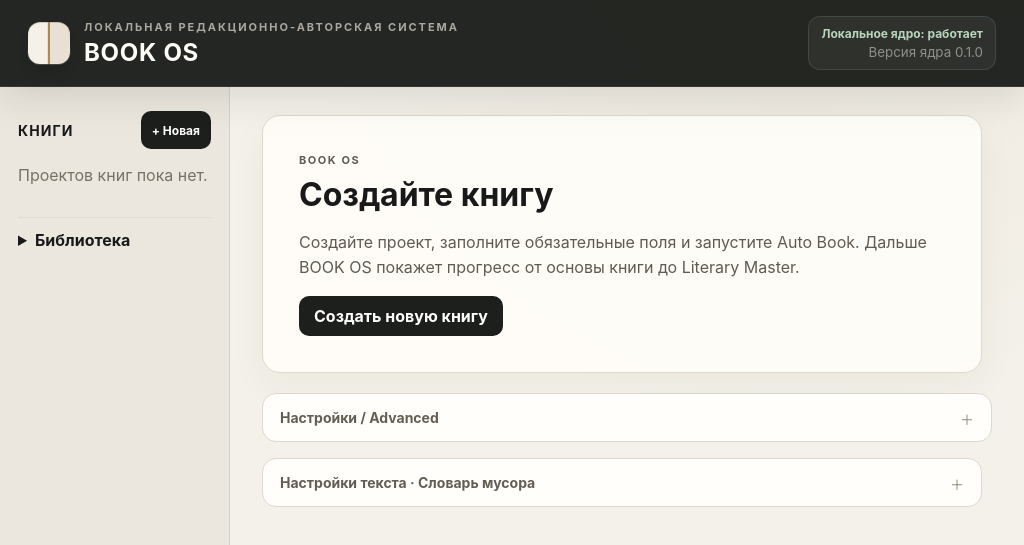
Test: показывает простой старт книги и выводит Auto Book как главный экран проекта
The image size is (1024, 545).
expect the text "Локальное ядро: работает" is shown: met, box [821, 26, 983, 41]
Click the button "Создать новую книгу" at (401, 316), box [299, 296, 503, 336]
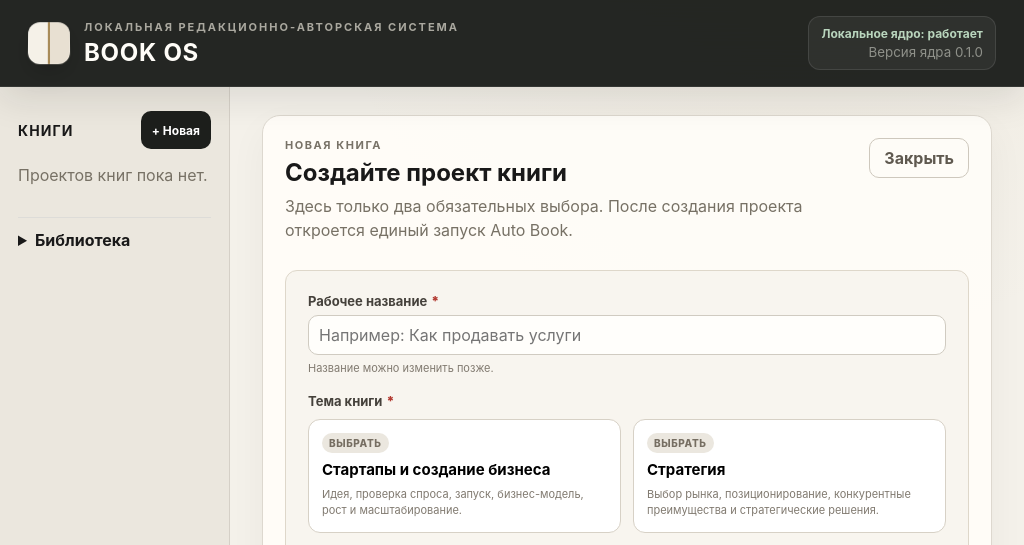
expect the heading "Создайте проект книги" is shown: met, box [285, 158, 567, 187]
Type "Operating Book" into the field labelled "Рабочее название * Название можно изменить позже." at (627, 335), box [308, 315, 946, 355]
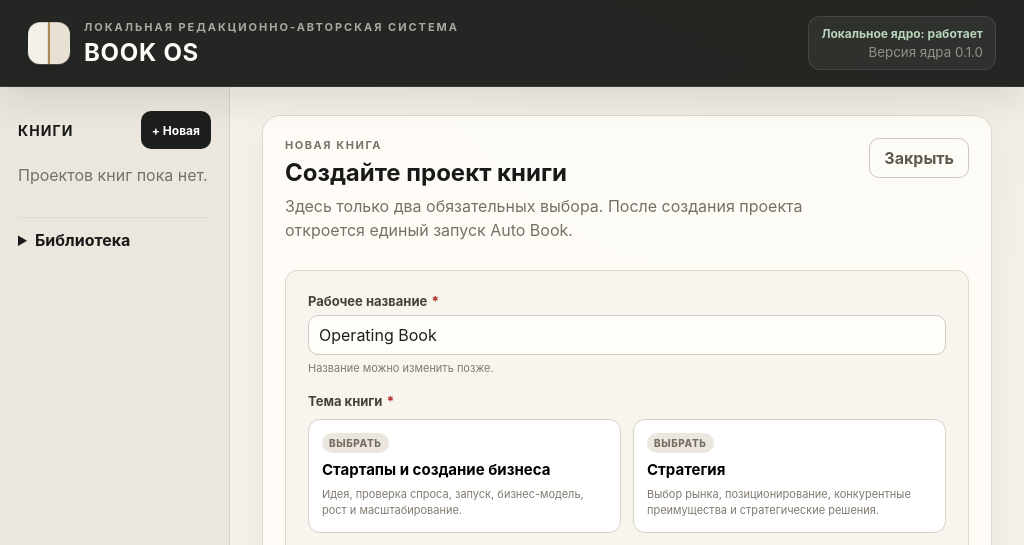
Click the button "Стратегия" at (680, 443), box [633, 419, 946, 533]
(page scrolled)
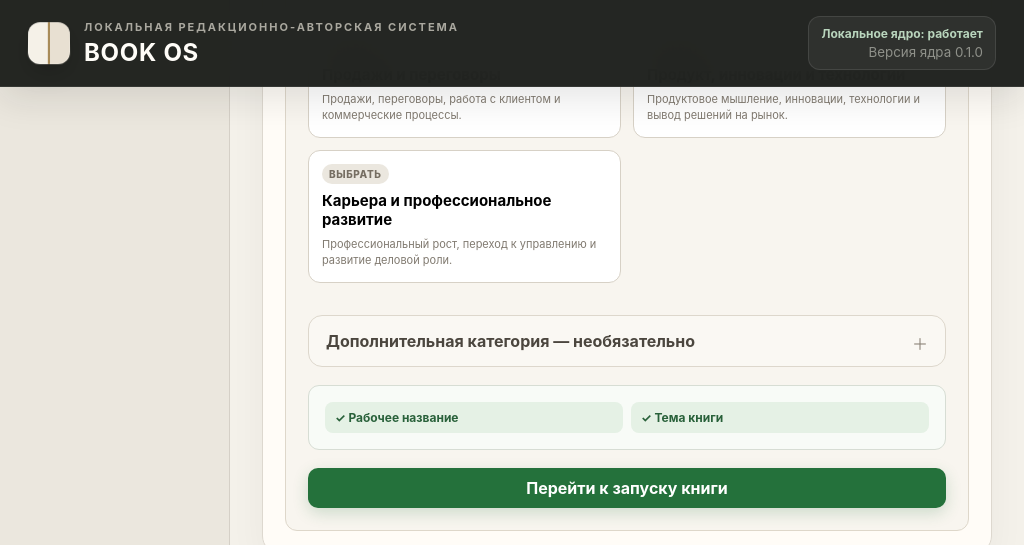
expect the button "Перейти к запуску книги" is enabled: met
Click the button "Перейти к запуску книги" at (627, 488), box [308, 468, 946, 508]
(page scrolled)
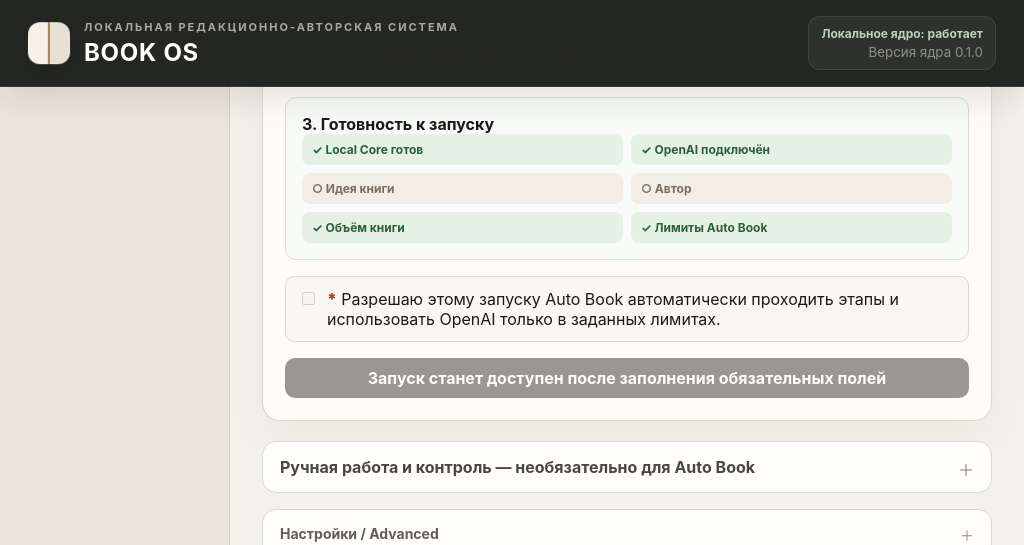
expect the heading "Ручная работа и контроль — необязательно для Auto Book" is shown: met, box [280, 457, 755, 477]
